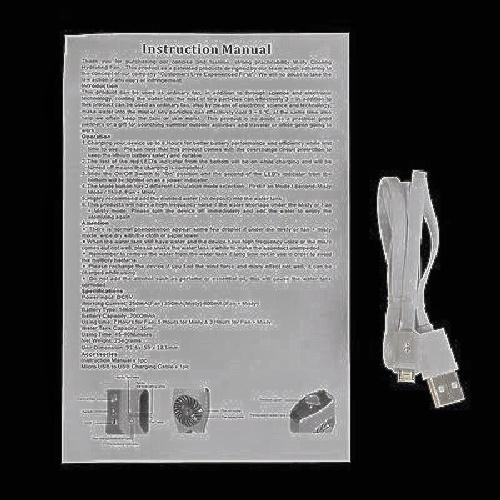fan: (92, 372, 346, 456)
